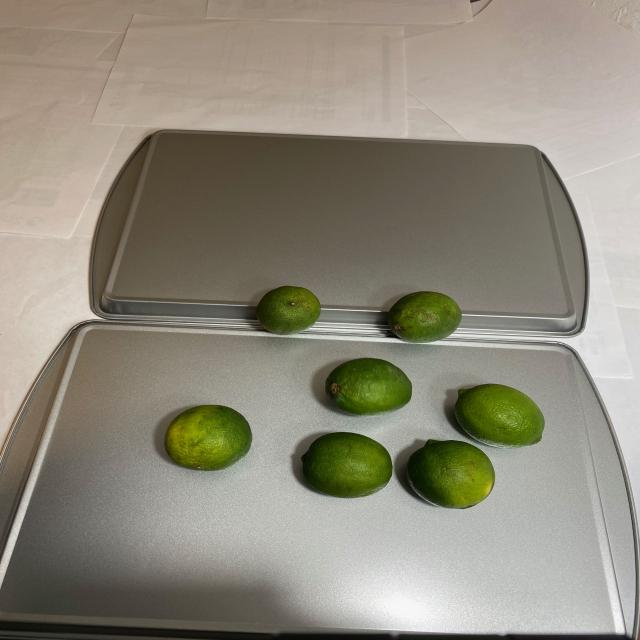lemon: (160, 282, 546, 512)
